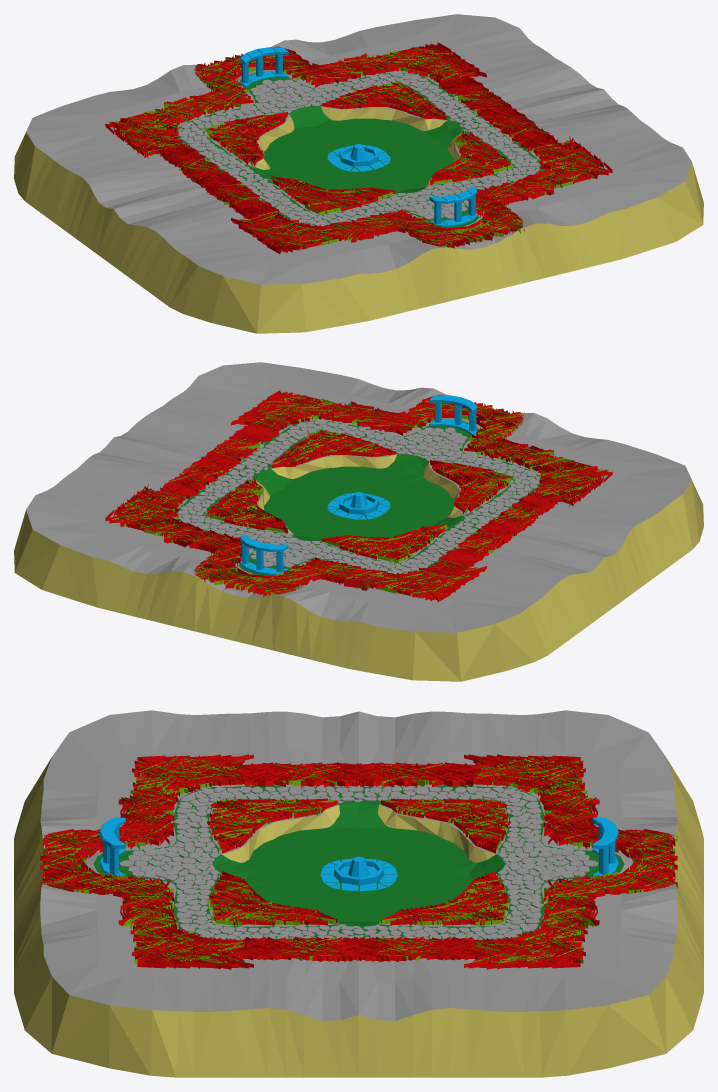
File: Map.FBX
The picture shows the model from 3 angles, top to bottom: view 1: azimuth 30°, elevation 25°; view 2: azimuth 150°, elevation 25°; view 3: azimuth 270°, elevation 25°; orthographic projection. The views are drawn at different scales.
Visible parts, largest first — view 1: Plane001, Grass, Grass1, Object003, Object001, Object002; view 2: Plane001, Grass, Grass1, Object003, Object001, Object002; view 3: Plane001, Grass, Grass1, Object003, Object001, Object002.
Boxes of the visible parts, left/top/right/bottom form: Plane001: left=14, top=14, right=703, bottom=333; Grass: left=105, top=42, right=612, bottom=254; Grass1: left=109, top=43, right=606, bottom=249; Object003: left=178, top=72, right=540, bottom=226; Object001: left=240, top=47, right=477, bottom=226; Object002: left=327, top=144, right=390, bottom=171; Plane001: left=14, top=362, right=703, bottom=681; Grass: left=105, top=390, right=612, bottom=602; Grass1: left=111, top=391, right=608, bottom=596; Object003: left=177, top=420, right=539, bottom=574; Object001: left=240, top=395, right=477, bottom=574; Object002: left=327, top=492, right=390, bottom=519; Plane001: left=14, top=710, right=703, bottom=1077; Grass: left=40, top=754, right=677, bottom=969; Grass1: left=40, top=757, right=677, bottom=963; Object003: left=119, top=786, right=598, bottom=939; Object001: left=99, top=817, right=618, bottom=876; Object002: left=320, top=856, right=397, bottom=891.
Bounding box in the file's own units: 1149 × 140 × 1035.
